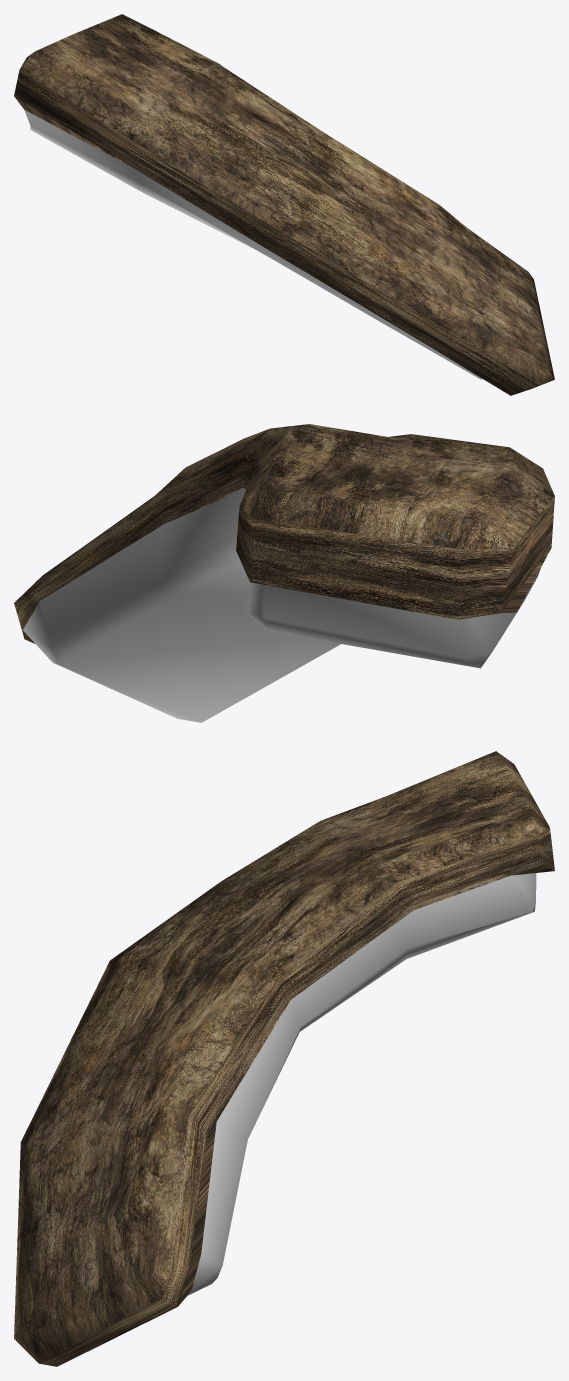
The model's file is Discesa01.FBX.
The picture shows the model from 3 angles, top to bottom: view 1: azimuth 30°, elevation 25°; view 2: azimuth 150°, elevation 25°; view 3: azimuth 270°, elevation 25°; orthographic projection. The views are drawn at different scales.
Parts seen in each view (by area): view 1: Plat010; view 2: Plat010; view 3: Plat010.
Part boxes in pixels (x1,y1,x2,y2): Plat010: [14, 14, 554, 395]; Plat010: [14, 424, 554, 722]; Plat010: [14, 751, 554, 1366].
Size of the model in its own units: 47.13 by 34.54 by 42.17.
